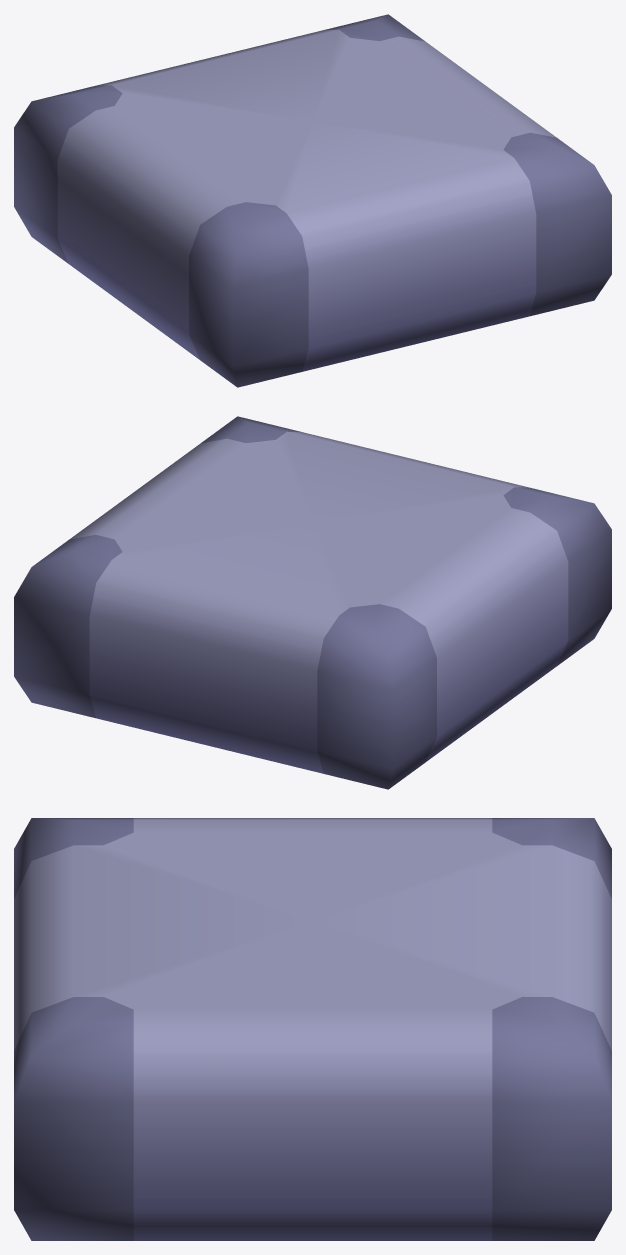
Rendered from kenney-factory-conveyor-stripe-sides-cross.glb.
3 views of the same model, one above another, from view 1: azimuth 30°, elevation 25°; view 2: azimuth 150°, elevation 25°; view 3: azimuth 270°, elevation 25° (orthographic). The views are drawn at different scales.
Visible parts, largest first — view 1: conveyor-stripe-sides-cross; view 2: conveyor-stripe-sides-cross; view 3: conveyor-stripe-sides-cross.
Boxes of the visible parts, bbox=[...] form: conveyor-stripe-sides-cross: bbox=[14, 14, 611, 387]; conveyor-stripe-sides-cross: bbox=[14, 416, 611, 789]; conveyor-stripe-sides-cross: bbox=[14, 818, 611, 1240].
Bounding box in the file's own units: 1 × 0.3999 × 1.
Materials: 1 (1 with a texture image).
